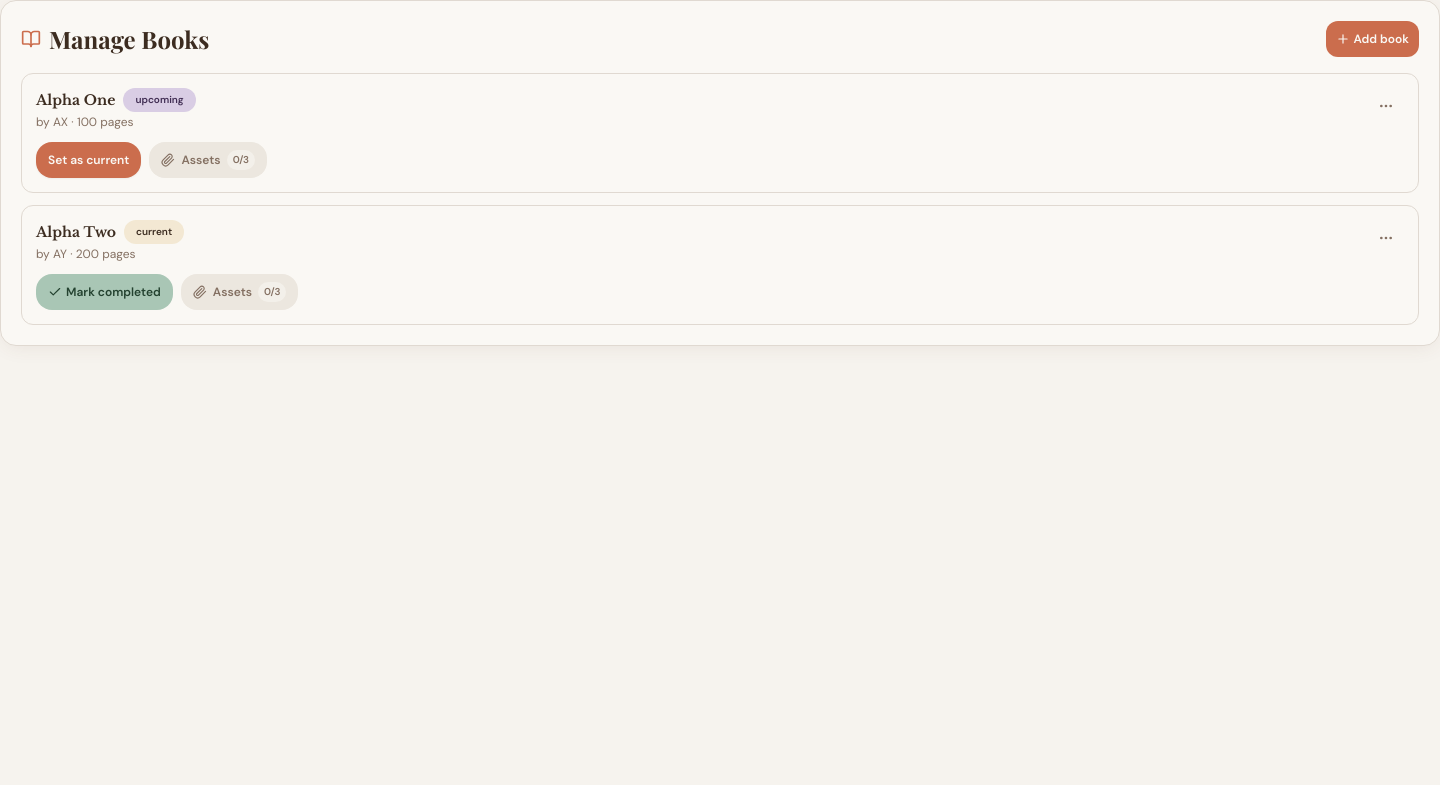
Test: BookManagerWidget Add Book autofill › persists the selected Google Books cover URL, title/author/pages, scoped to current club, and lets manual edits win after selection
The image size is (1440, 785).
Later steps or results of the test are not shown.
Check: the text "Alpha One" is shown, box [36,90,115,110]
// Open the add-book form.
Click the button "Add book" at (1372, 39), box [1326,21,1419,57]
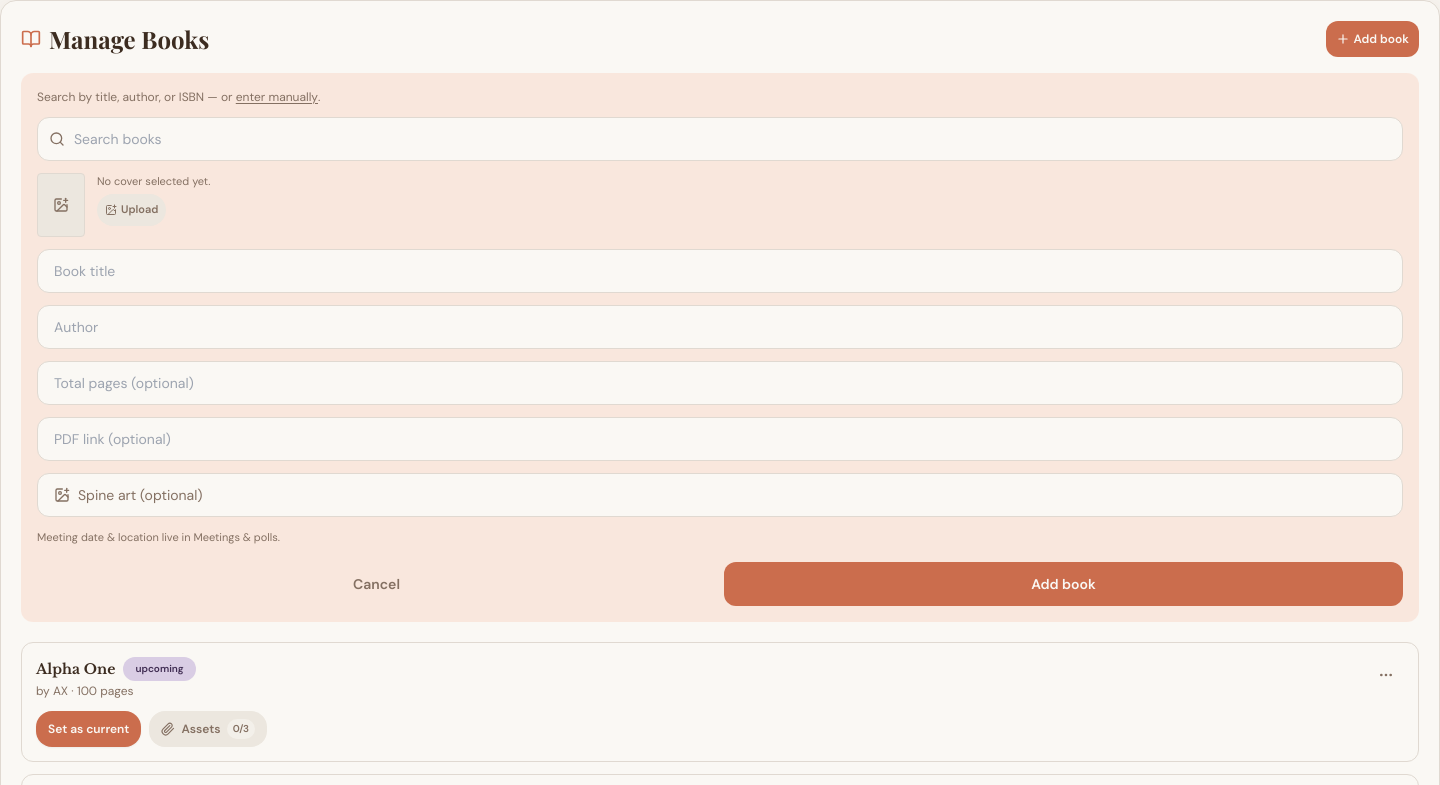
// Type a query, wait for debounced result to appear.
Type "selected" into the search field labelled "Search books" at (720, 139), box [37,117,1403,161]
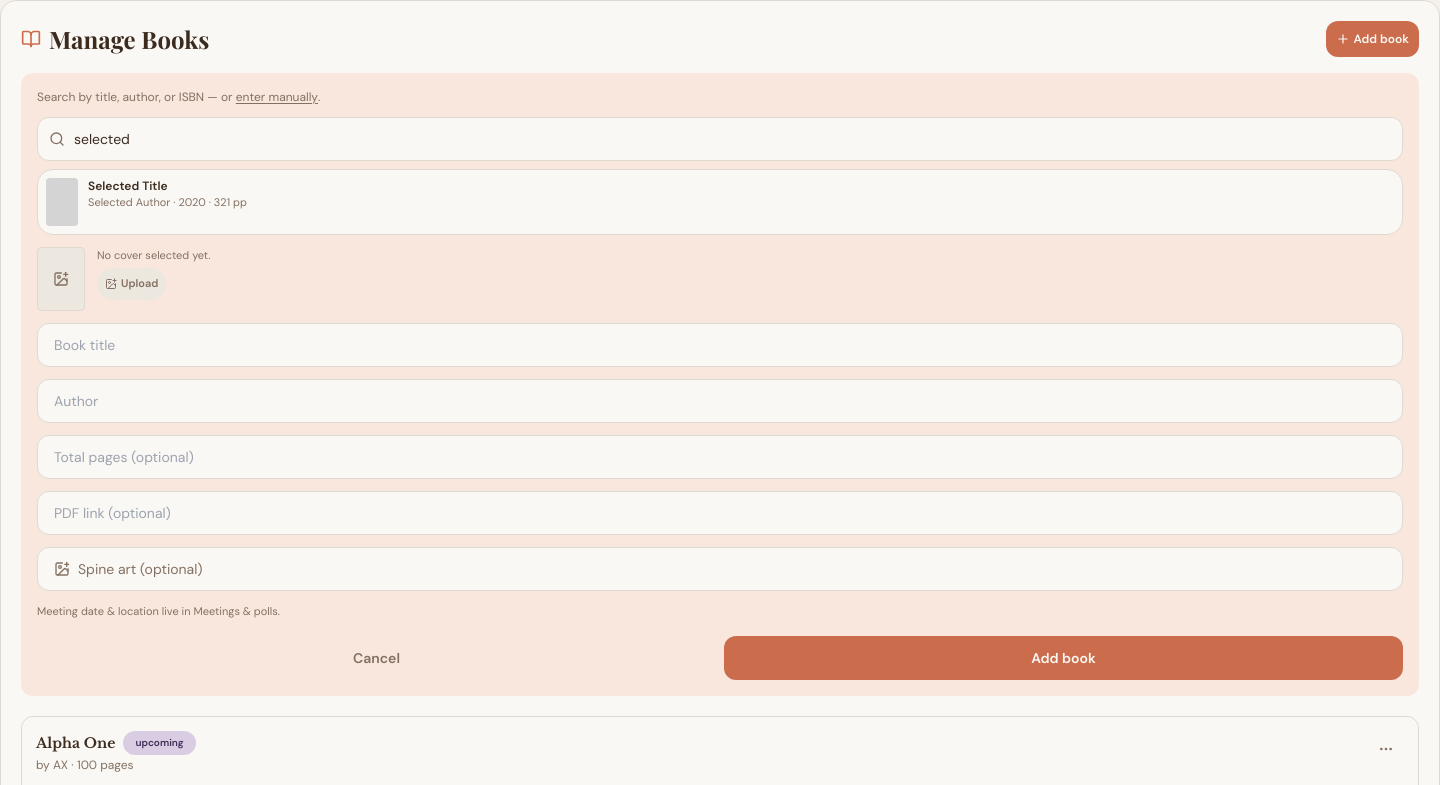
// Select the result.
Click the option "Selected Title Selected Author · 2020 · 321 pp" at (62, 202), box [38,170,1402,234]
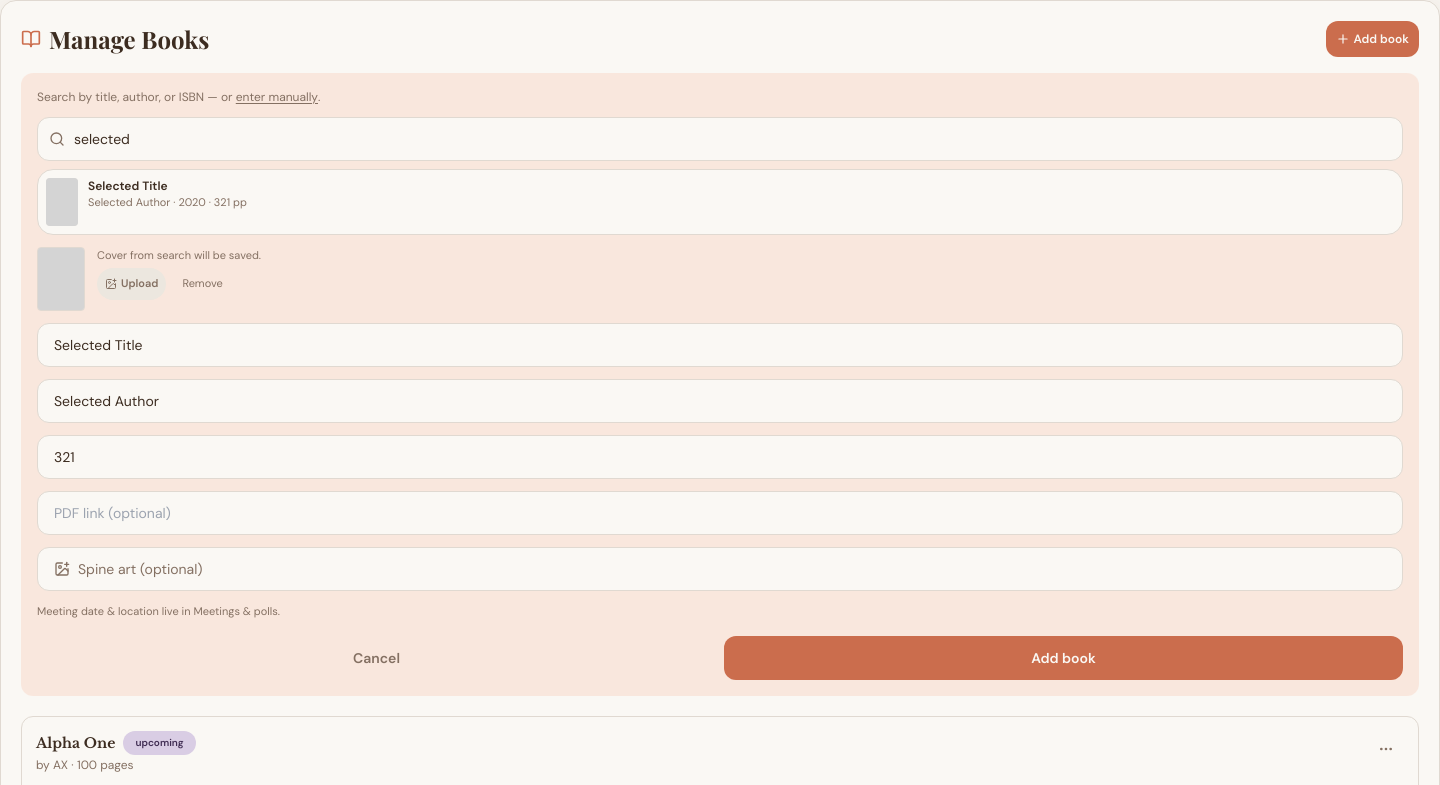
Check: the 1st field with placeholder "Book title" holds "Selected Title", box [37,323,1403,367]
Check: the 2nd field with placeholder "Author" holds "Selected Author", box [37,379,1403,423]
Check: the number field with placeholder "Total pages (optional)" holds "321", box [37,435,1403,479]
